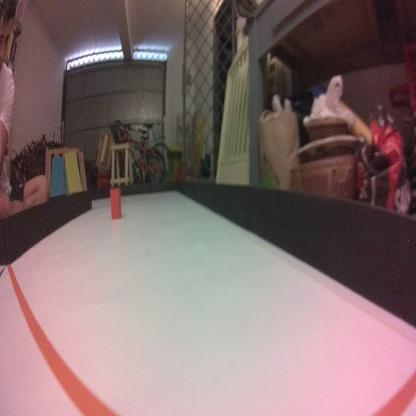red: (108, 186, 122, 220)
